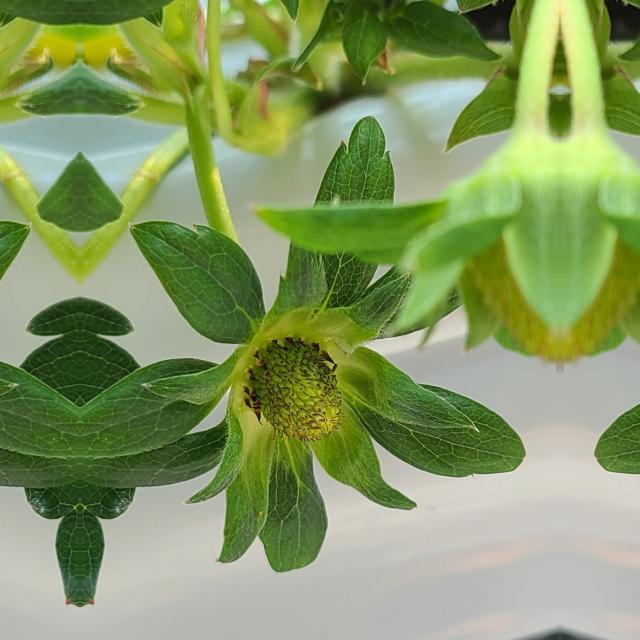Health_25: (251, 340, 341, 442)
